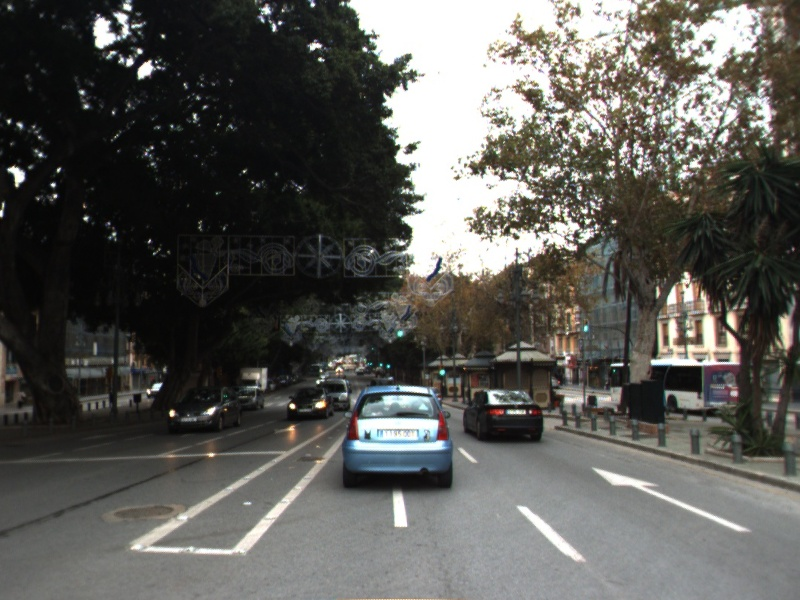STRAIGHT: (589, 465, 754, 534)
